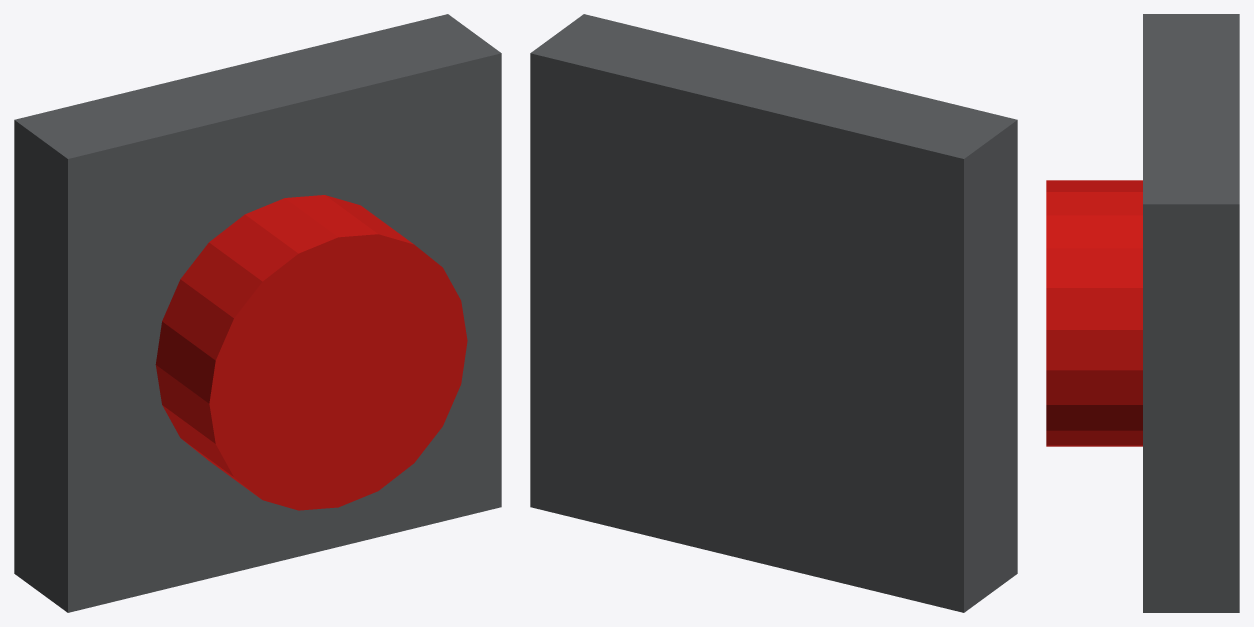
The model's file is reset_button_1.fbx.
3 views of the same model, side by side, from view 1: azimuth 30°, elevation 25°; view 2: azimuth 150°, elevation 25°; view 3: azimuth 270°, elevation 25° (orthographic). The views are drawn at different scales.
Parts seen in each view (by area): view 1: SCN_05_ResetControl_CleanMesh; view 2: SCN_05_ResetControl_CleanMesh; view 3: SCN_05_ResetControl_CleanMesh.
Part boxes in pixels (x1=…): SCN_05_ResetControl_CleanMesh: x1=14, y1=14, x2=501, y2=612; SCN_05_ResetControl_CleanMesh: x1=530, y1=14, x2=1017, y2=612; SCN_05_ResetControl_CleanMesh: x1=1046, y1=14, x2=1239, y2=612.
Size of the model in its own units: 0.84 by 0.84 by 0.36.
